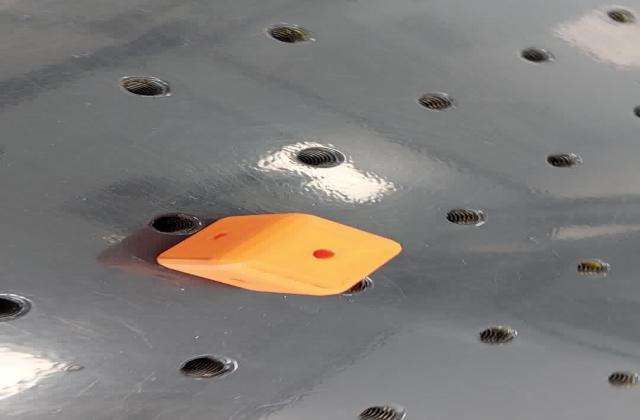cube: (146, 212, 404, 298)
